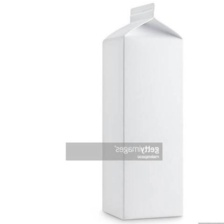carton: (92, 2, 188, 221)
